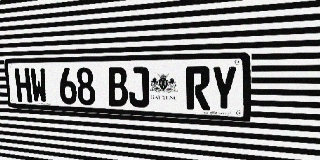6: (58, 68, 77, 104)
8: (76, 67, 96, 105)
B: (107, 67, 128, 107)
H: (14, 68, 32, 102)
J: (128, 67, 150, 108)
R: (186, 66, 210, 111)
W: (30, 68, 48, 103)
Y: (211, 66, 237, 112)
